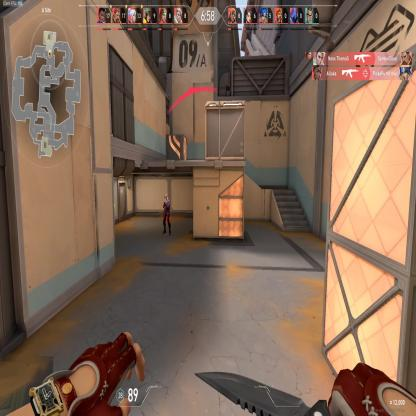enemy: (162, 193, 172, 236)
